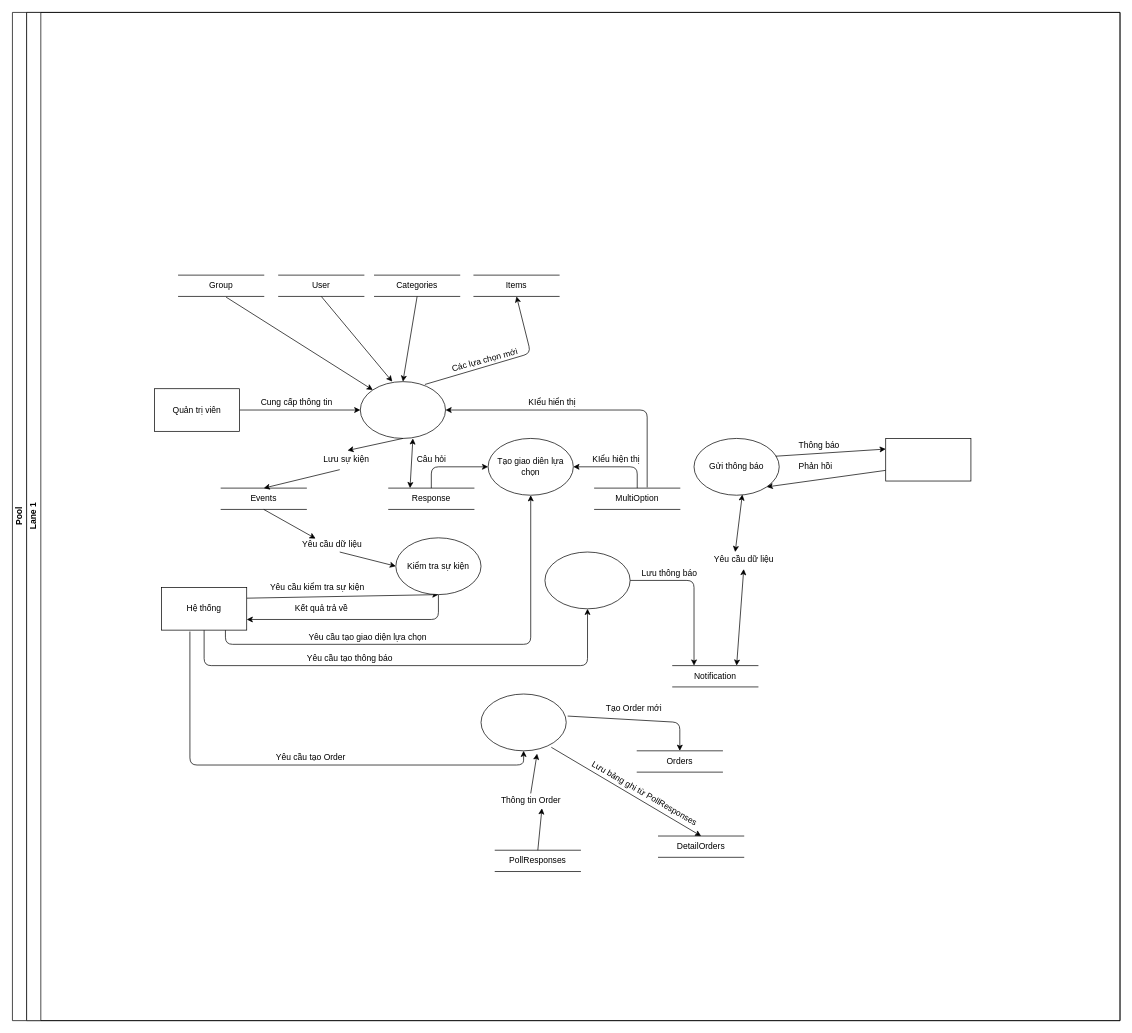
Some shapes in this 1132 by 1033 pixel diagram are drawn without their labels. The shapes that lost their labels are listed below. From the top down, each one's centre as x and y in pixels, then its label:
pixel 403 409: Tạo sự kiện
pixel 928 459: Người dùng
pixel 587 580: Tạo thông báo
pixel 523 722: Tạo Order
